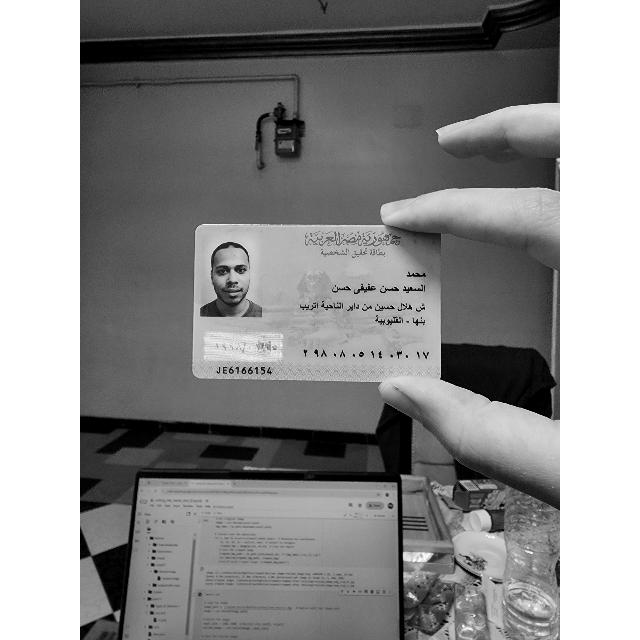id_card: (200, 224, 442, 384)
